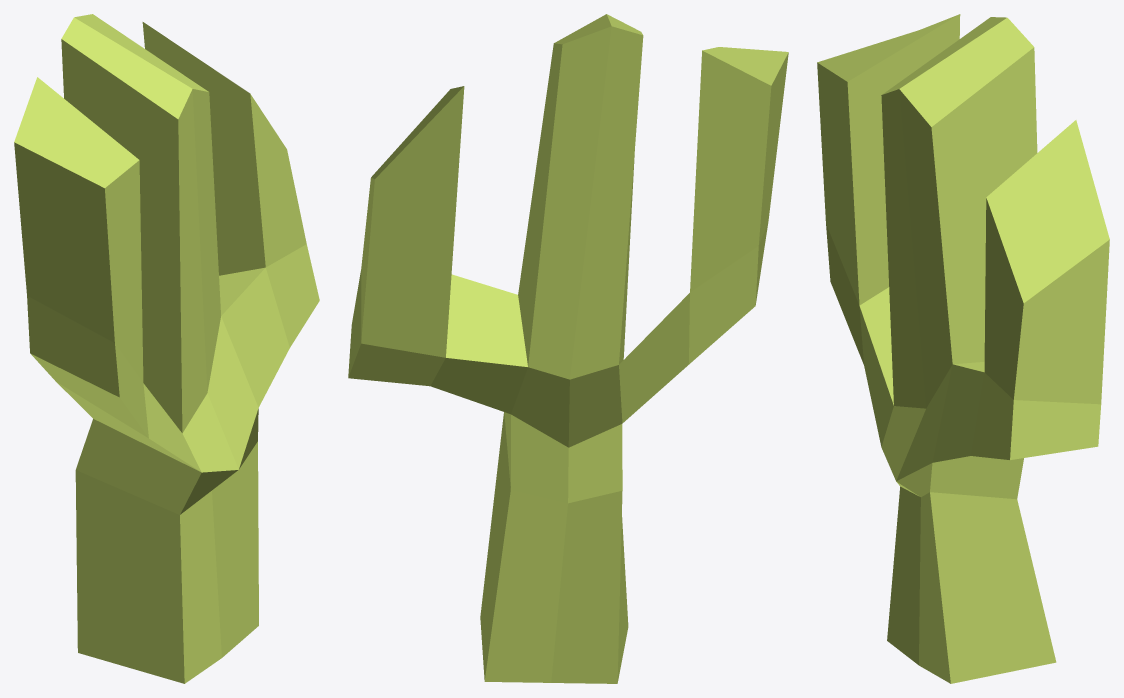
Rendered from Cactus_3.glb.
3 renders of one model, left to right at view 1: azimuth 30°, elevation 25°; view 2: azimuth 150°, elevation 25°; view 3: azimuth 270°, elevation 25°, orthographic. The views are drawn at different scales.
Parts seen in each view (by area): view 1: Cactus_3; view 2: Cactus_3; view 3: Cactus_3.
Boxes of the visible parts, x1,y1,x2,y2 form: Cactus_3: (14,14,319,683); Cactus_3: (348,14,788,683); Cactus_3: (817,14,1109,683).
Size of the model in its own units: 3.88 by 6.63 by 2.92.
